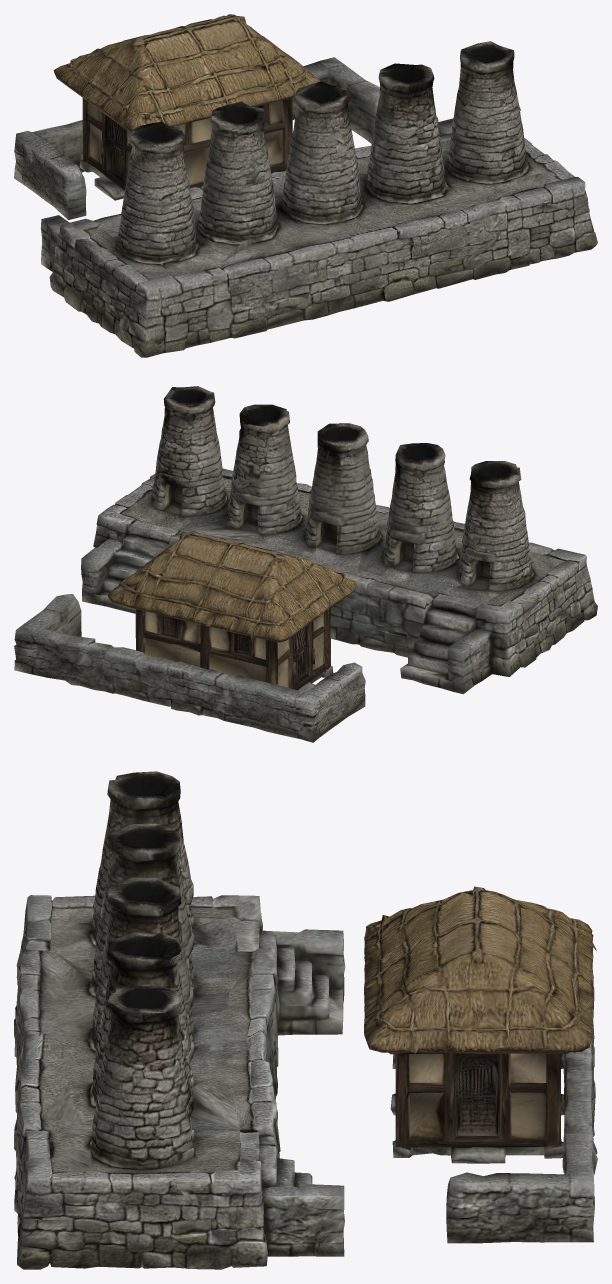
File: bongsu.glb
3 views of the same model, one above another, from view 1: azimuth 30°, elevation 25°; view 2: azimuth 150°, elevation 25°; view 3: azimuth 270°, elevation 25° (orthographic). The views are drawn at different scales.
Parts seen in each view (by area): view 1: tripo_node_4b90c718-8921-41c2-b166-44c7fe2b8311; view 2: tripo_node_4b90c718-8921-41c2-b166-44c7fe2b8311; view 3: tripo_node_4b90c718-8921-41c2-b166-44c7fe2b8311.
Part boxes in pixels (bbox=[...]): tripo_node_4b90c718-8921-41c2-b166-44c7fe2b8311: bbox=[14, 14, 597, 357]; tripo_node_4b90c718-8921-41c2-b166-44c7fe2b8311: bbox=[14, 386, 597, 742]; tripo_node_4b90c718-8921-41c2-b166-44c7fe2b8311: bbox=[14, 771, 597, 1269].
Bounding box in the file's own units: 0.9793 × 0.3657 × 0.822.
1 material, 1 textured.
